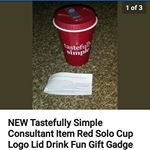cups: (51, 3, 101, 69)
